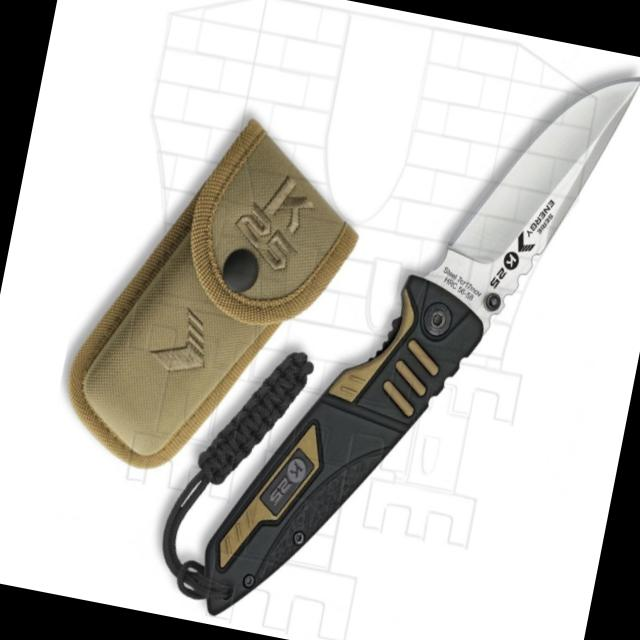knife: (188, 14, 640, 640)
